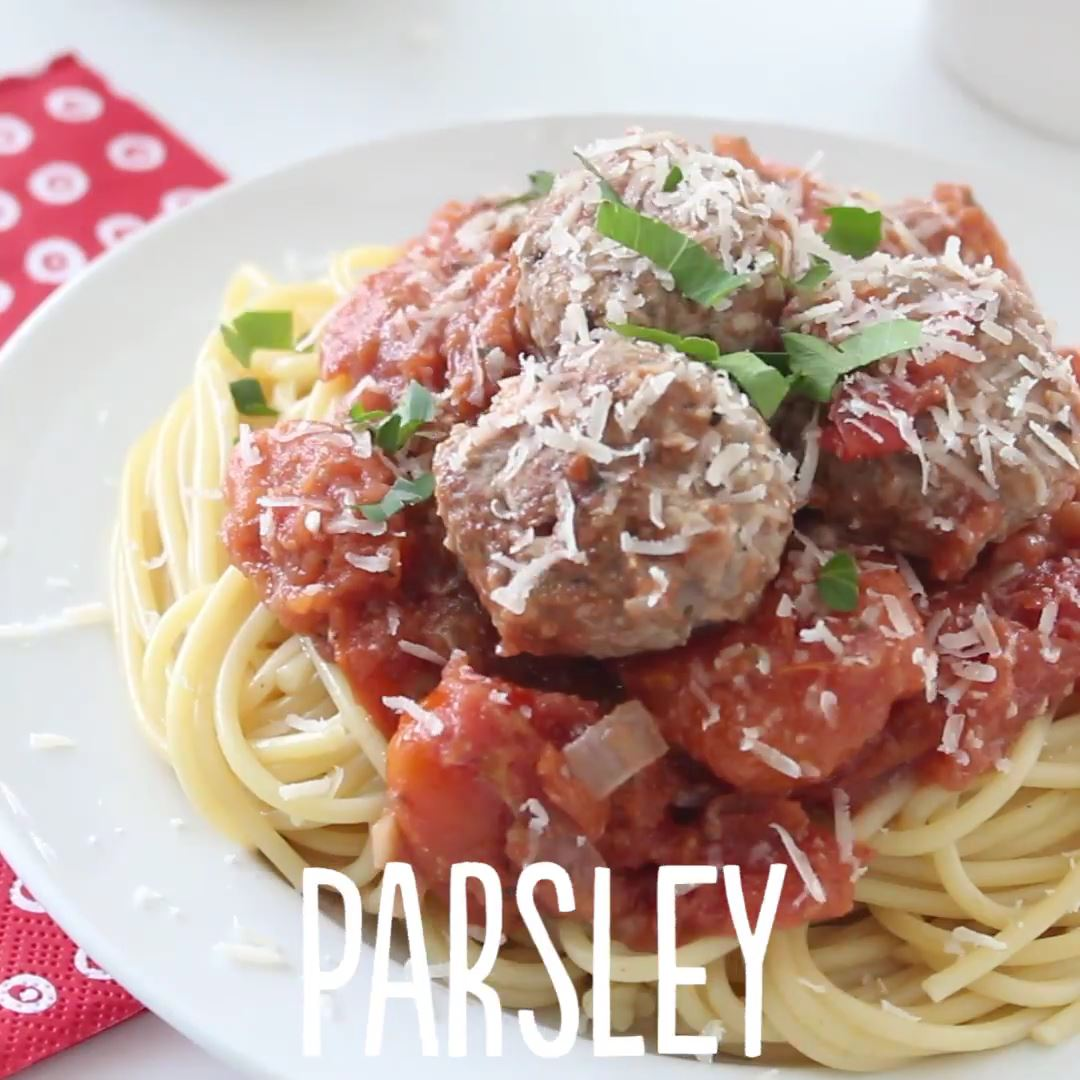meatballs: (455, 365, 787, 652), (802, 289, 1062, 563), (515, 151, 803, 366)
plain spaghetti: (223, 670, 1067, 1066), (124, 294, 378, 793)
